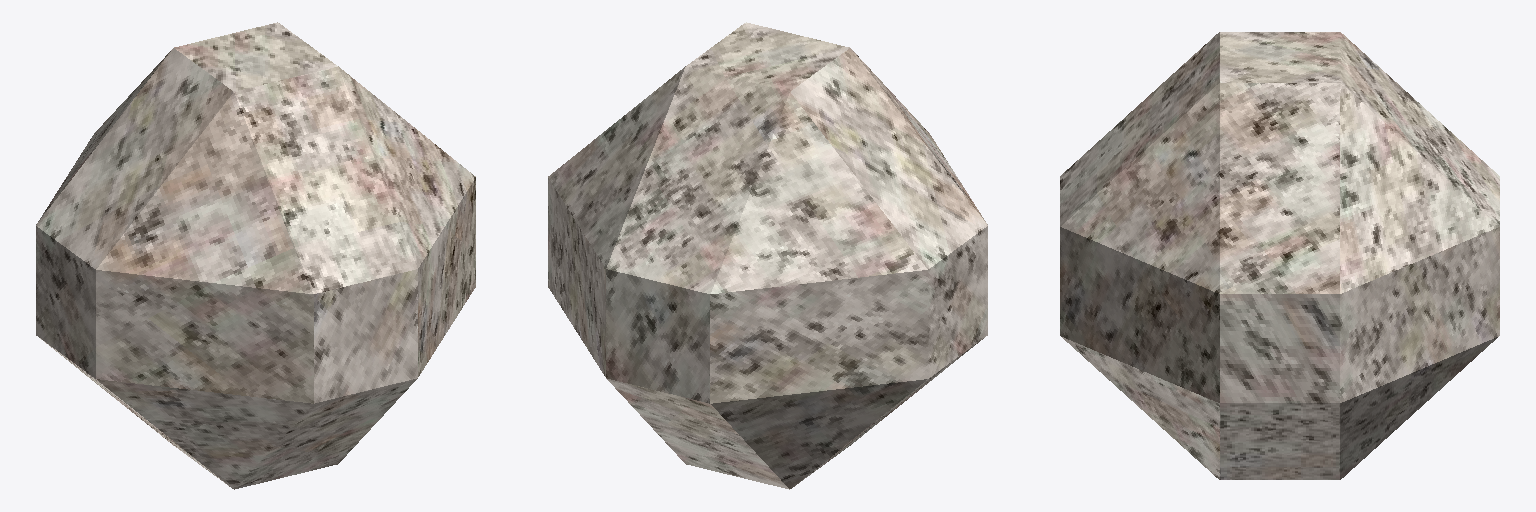
The picture shows the model from 3 angles: view 1: azimuth 30°, elevation 25°; view 2: azimuth 150°, elevation 25°; view 3: azimuth 270°, elevation 25°; orthographic projection.
Visible parts, largest first — view 1: Cube; view 2: Cube; view 3: Cube.
Boxes of the visible parts, x1=… form: Cube: x1=36, y1=22, x2=475, y2=489; Cube: x1=548, y1=22, x2=987, y2=489; Cube: x1=1060, y1=32, x2=1499, y2=479.
Size of the model in its own units: 6.93 by 6.93 by 6.93.
Materials: 1 (1 with a texture image).